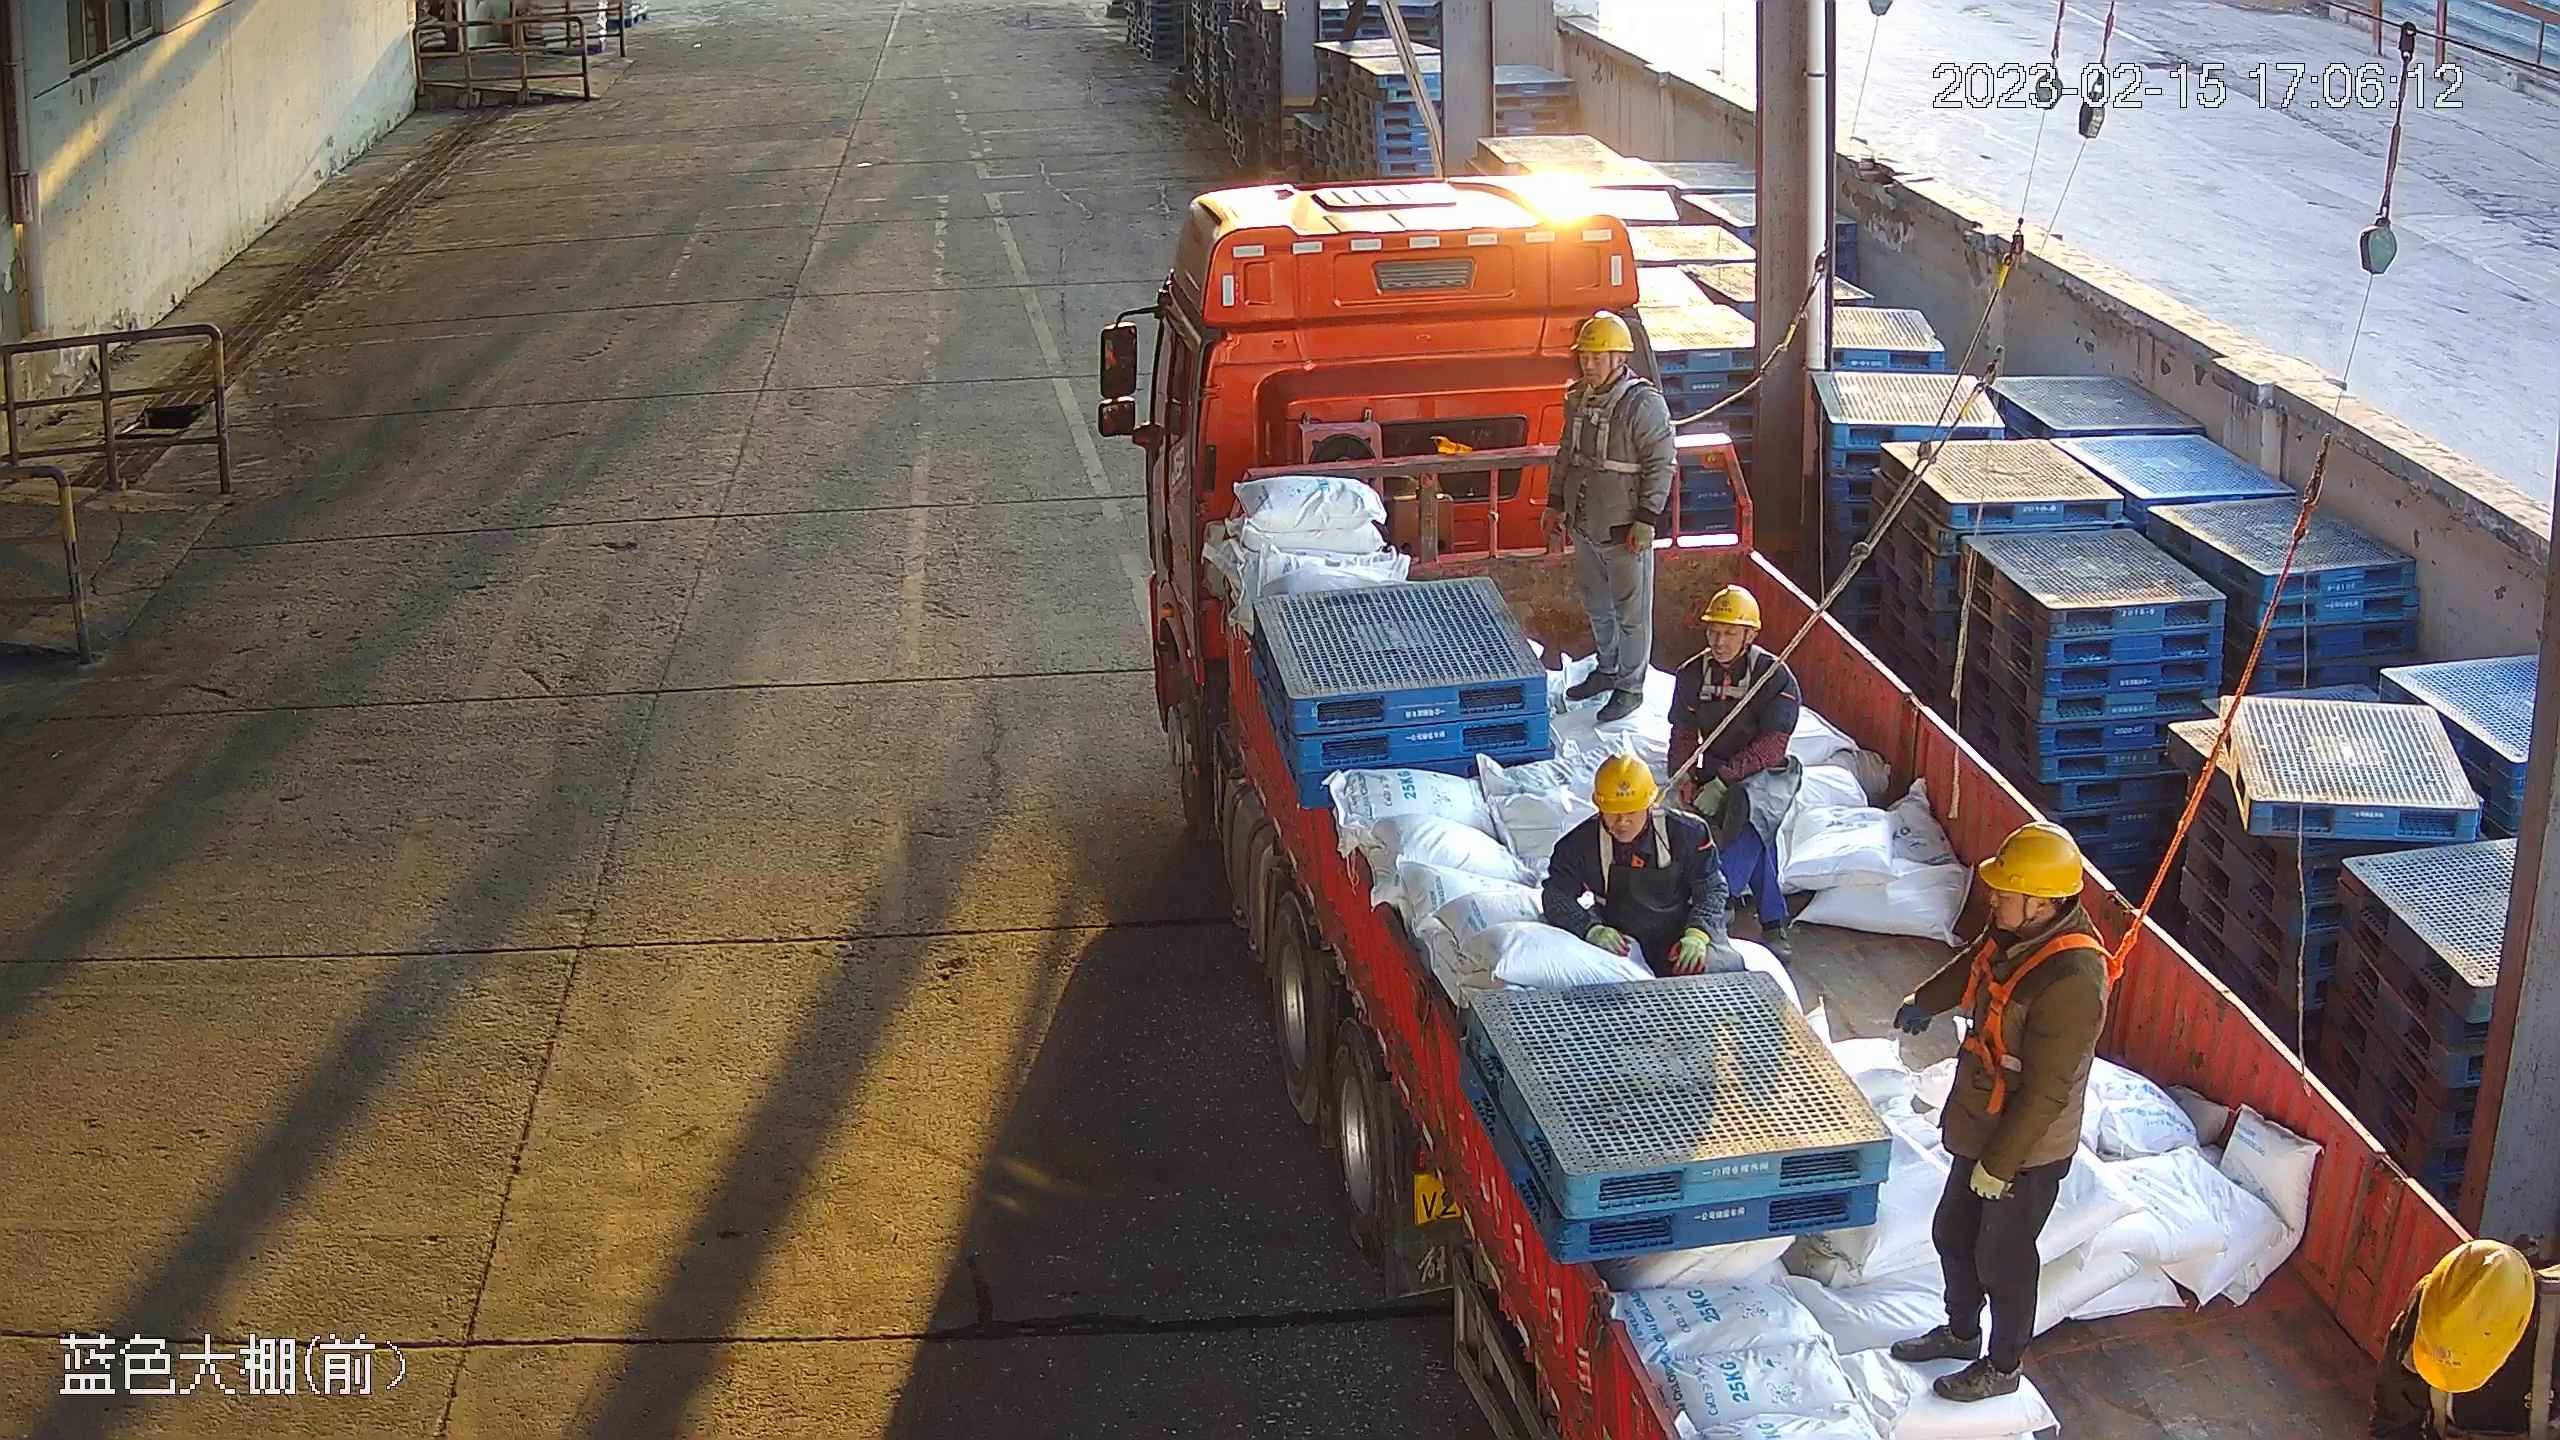belt: (1932, 932, 2139, 1109), (2405, 1281, 2556, 1440), (1557, 376, 1654, 472), (1582, 808, 1684, 884), (1692, 646, 1761, 707)
head: (2369, 1240, 2560, 1440), (1895, 817, 2103, 996), (1566, 754, 1710, 879), (1539, 310, 1669, 447), (1676, 584, 1793, 705)
helmet: (2415, 1240, 2534, 1389), (1975, 821, 2085, 897), (1590, 755, 1660, 811), (1700, 583, 1764, 630), (1570, 312, 1634, 356)
people: (1890, 819, 2108, 1401), (1537, 310, 1674, 724), (1668, 582, 1803, 969), (1541, 751, 1743, 975)
truck: (1091, 172, 2560, 1440)
